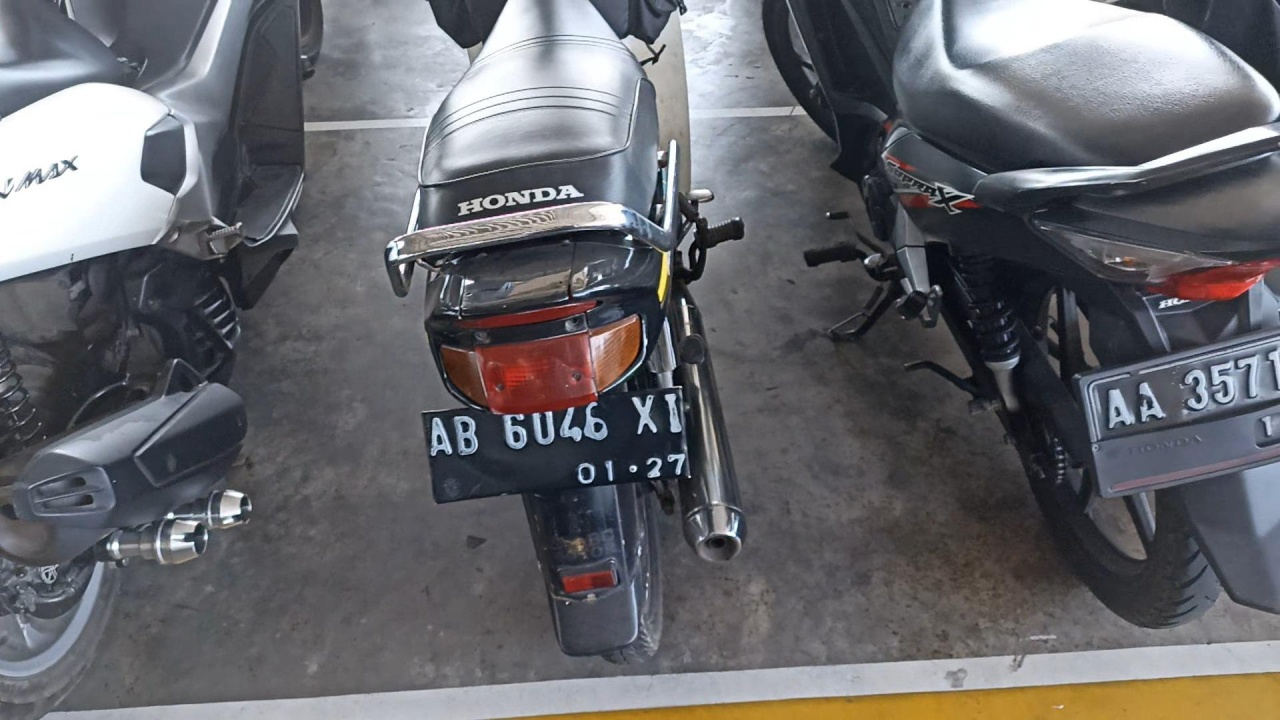plate: (422, 388, 690, 503)
